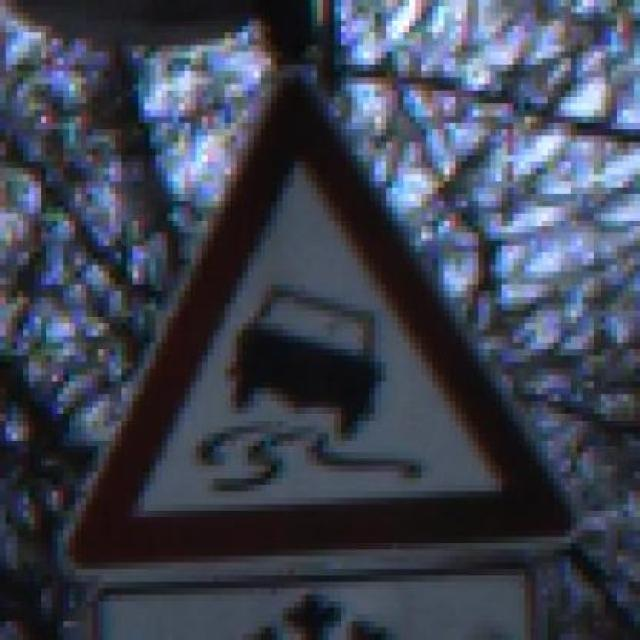Slippery Road Ahead: (35, 64, 582, 576)
